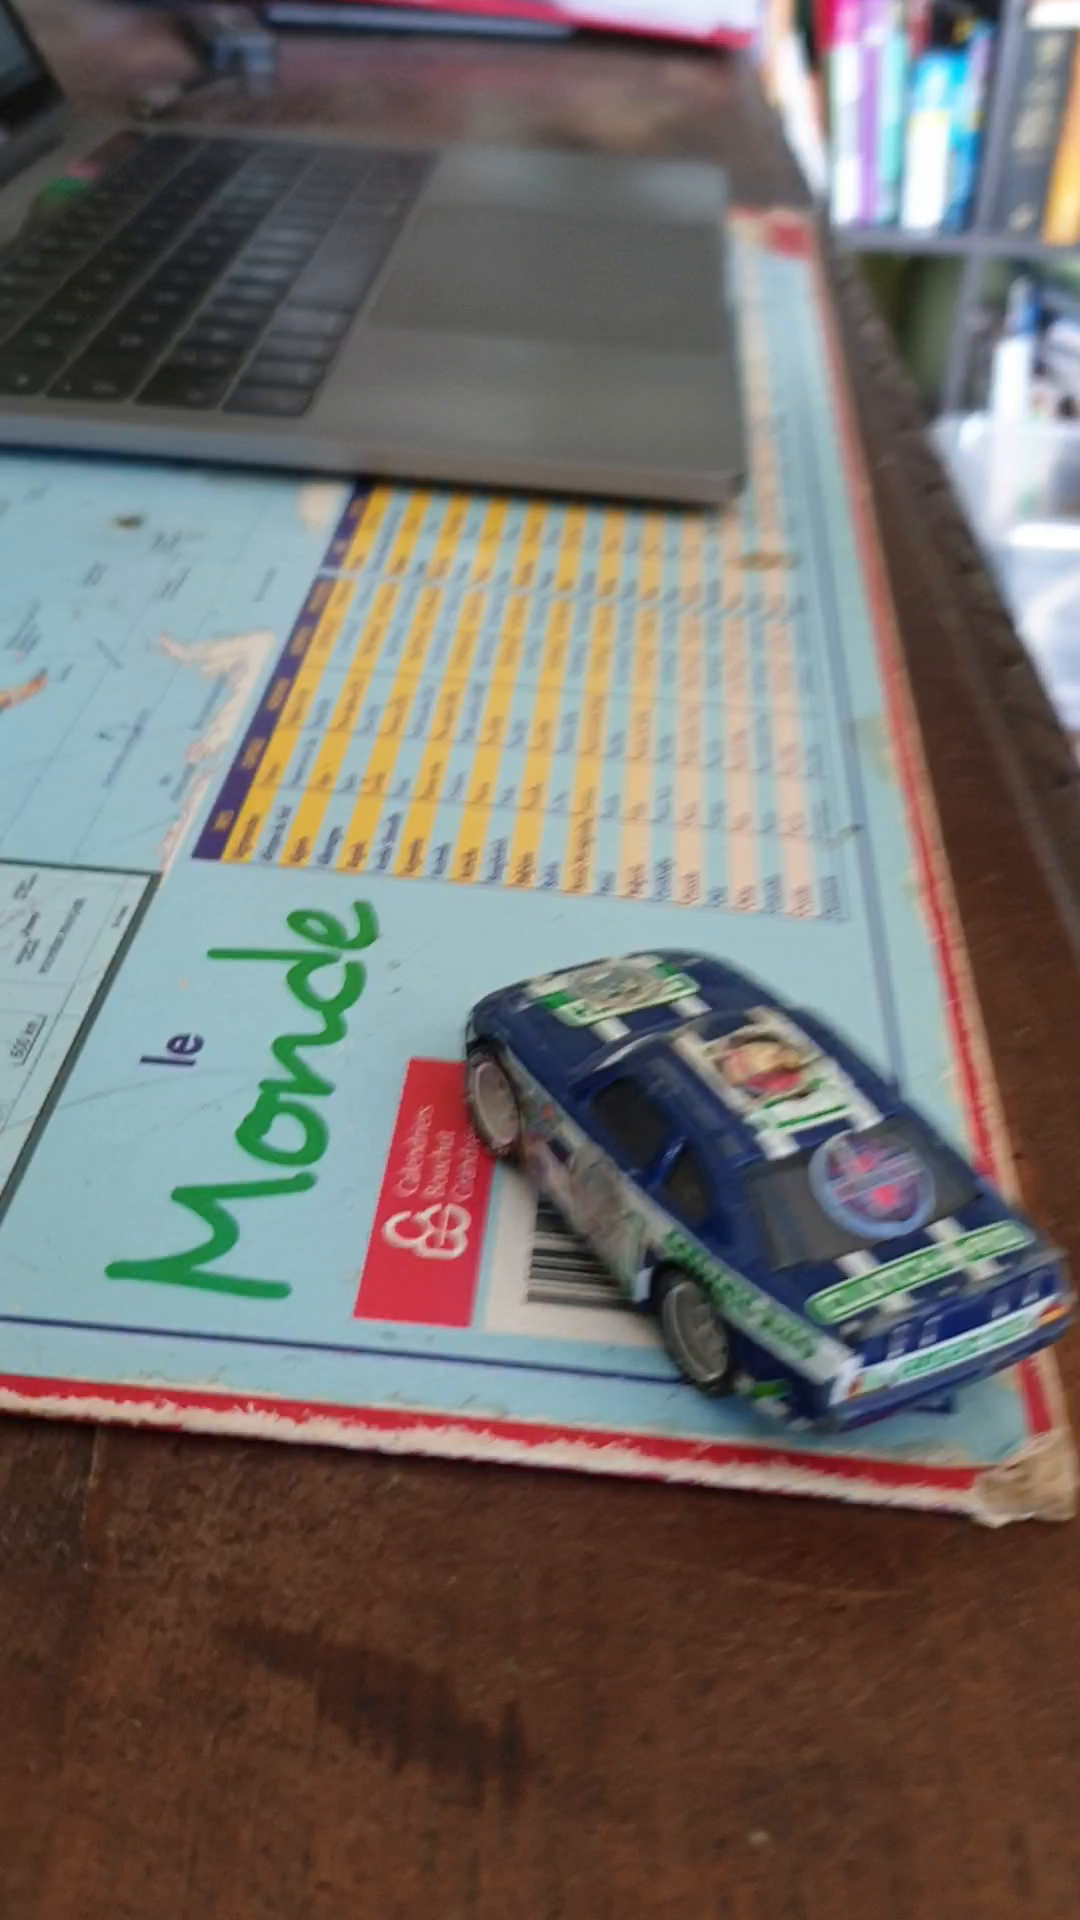cars: (456, 945, 1069, 1443)
